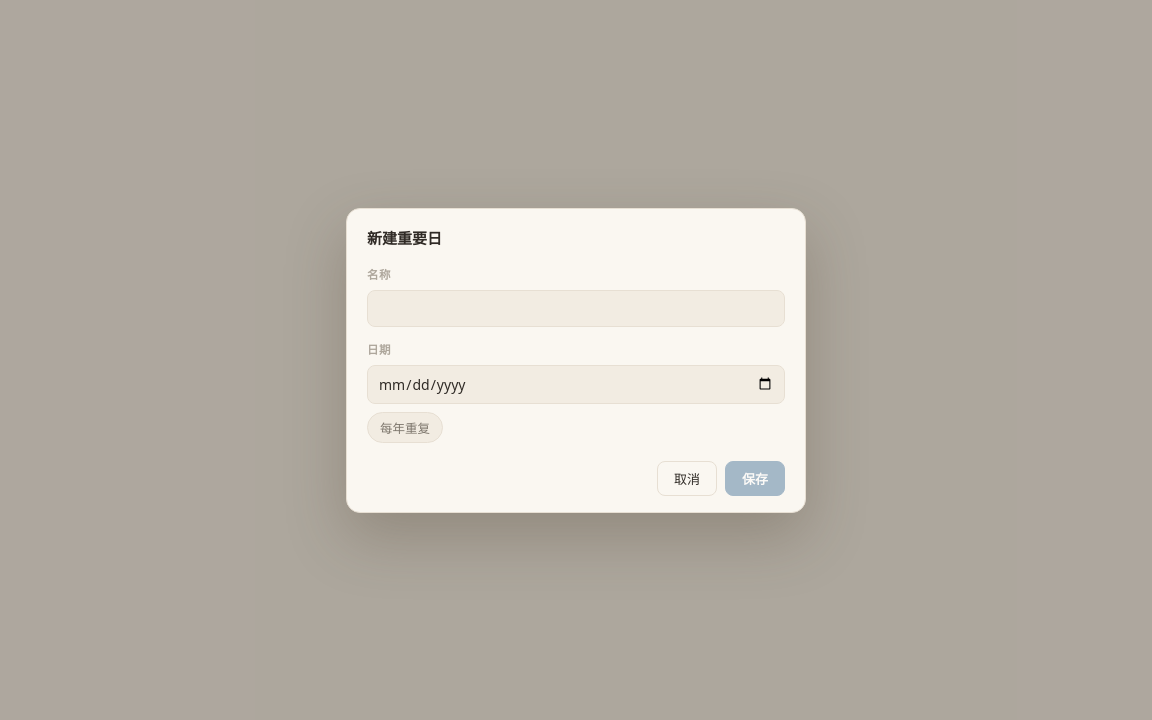
Test: CountdownForm › 名称和日期都填了才能保存
Expected: the button "保存" is disabled, [725, 460, 785, 496]
Type "考试" into the field named "重要日名称" at {"x": 576, "y": 308}, box [367, 290, 785, 326]
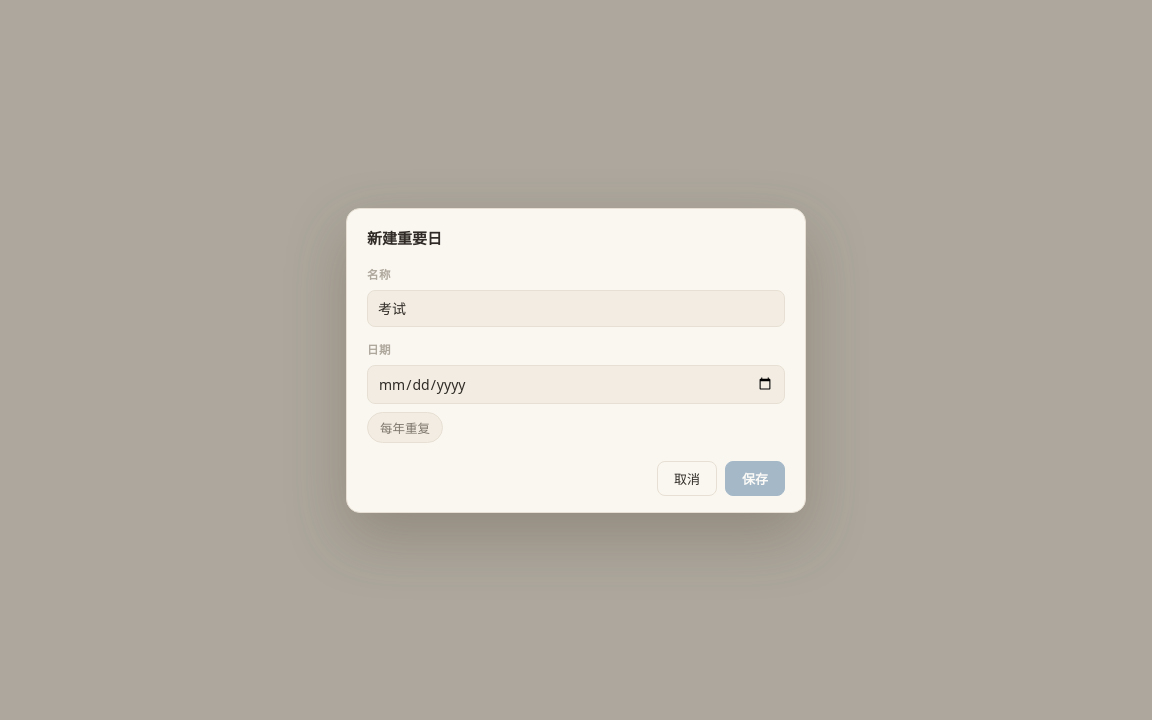
Expected: the button "保存" is disabled, [725, 460, 785, 496]
Type "2026-12-20" into the date field named "重要日日期" at {"x": 576, "y": 384}, box [367, 364, 785, 404]
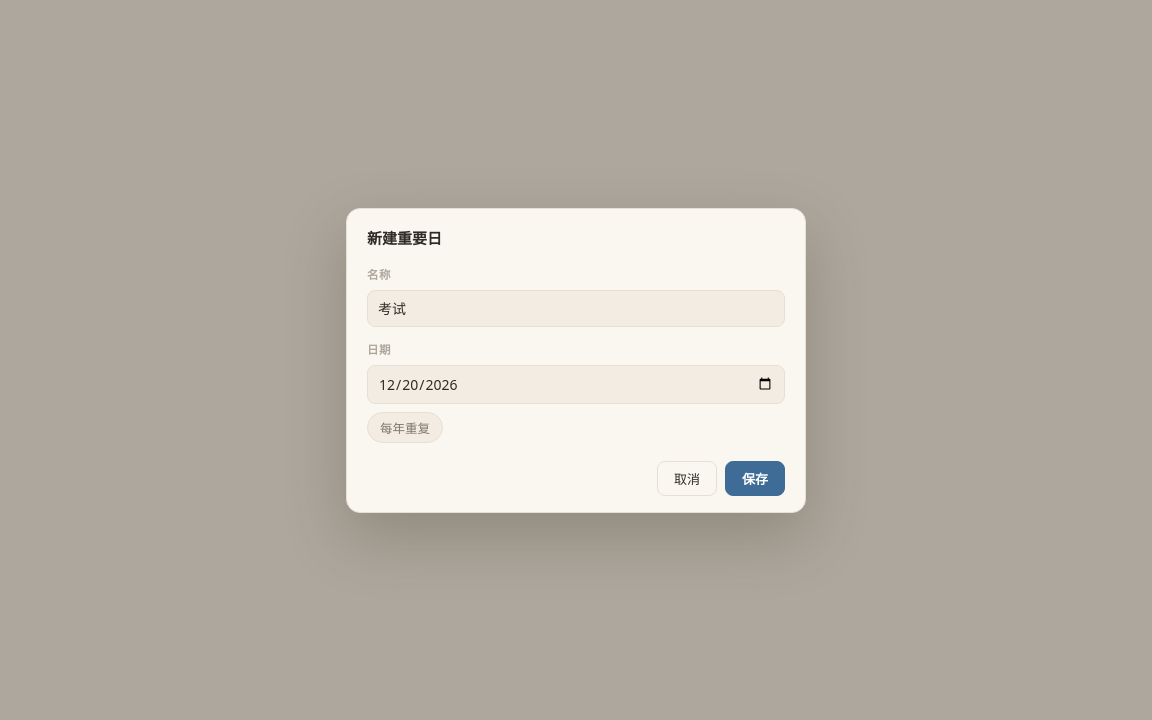
Result: the button "保存" is enabled at [725, 460, 785, 496]
